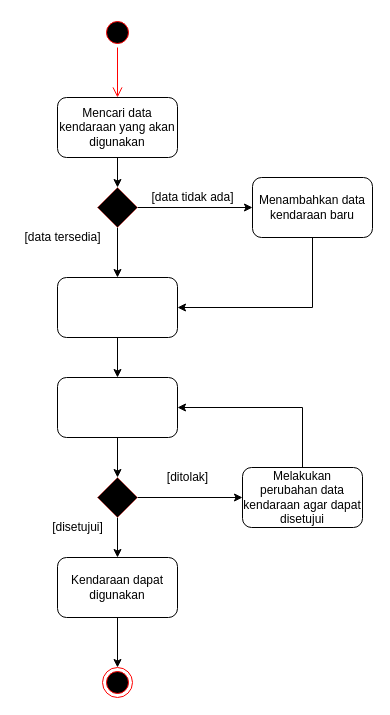
This 390x715 diagram has some shape labels left out. Each missing label, with the box of its shape:
Melakukan persetujuan oleh pihak yang menyetujui: (56, 376, 178, 438)
Menambahkan data kendaraan ke dalam pool: (56, 276, 178, 338)
